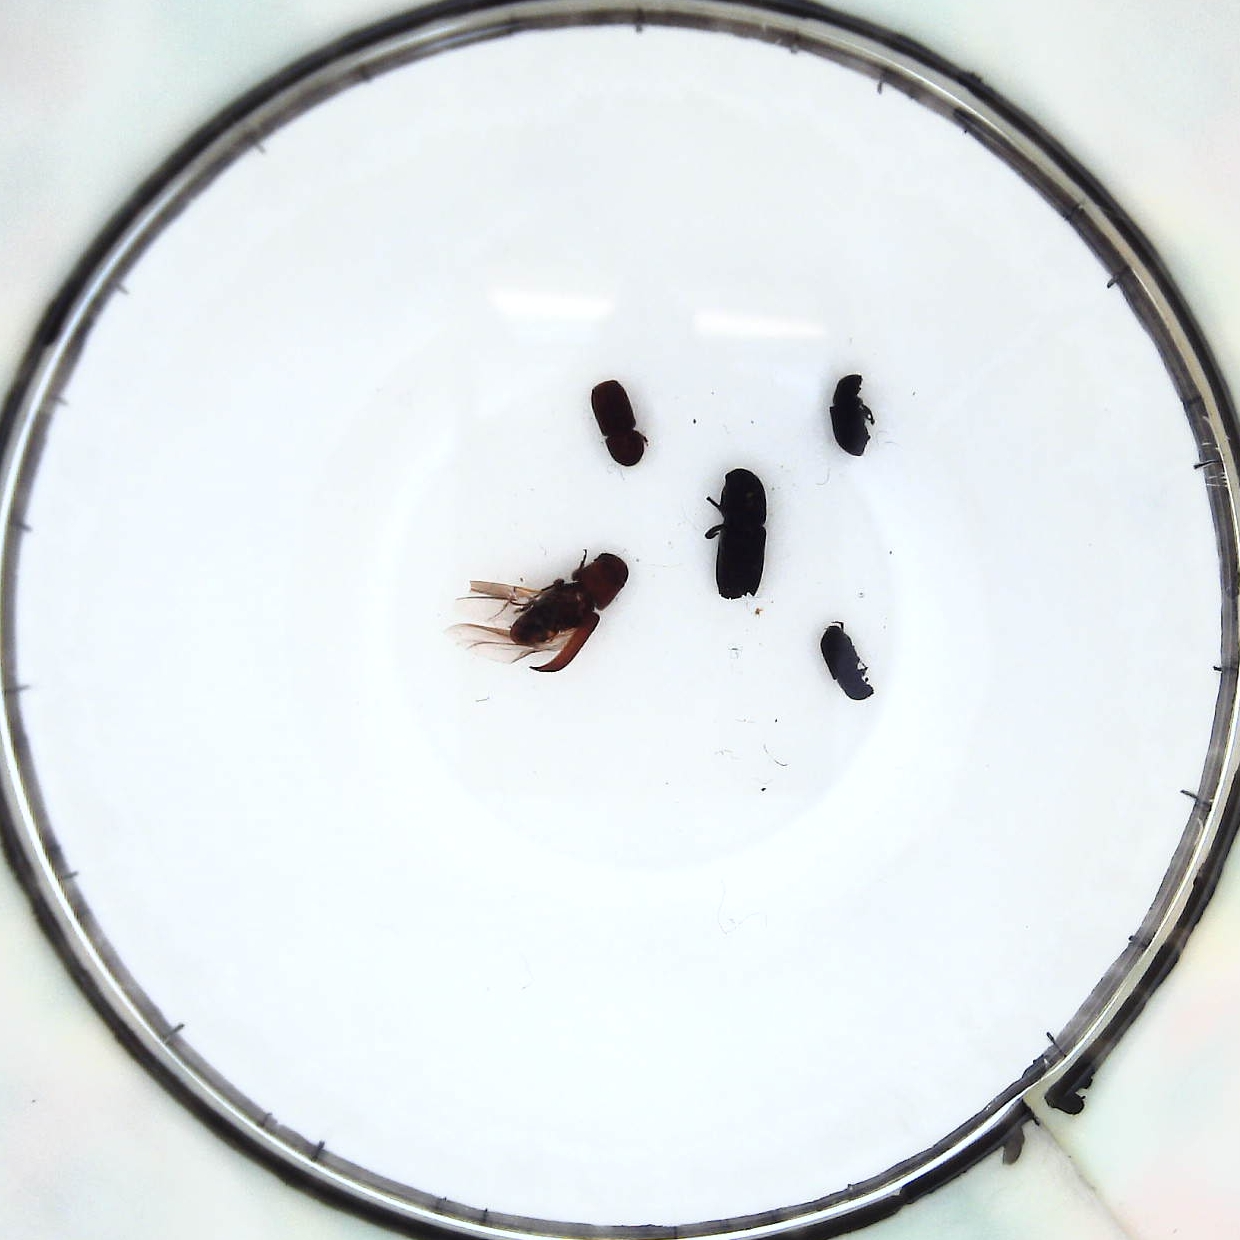Boerner: (702, 471, 770, 603)
Leconte: (468, 554, 629, 673)
Linnaeus: (592, 372, 638, 468)
armandi: (826, 622, 873, 699), (833, 376, 877, 459)
